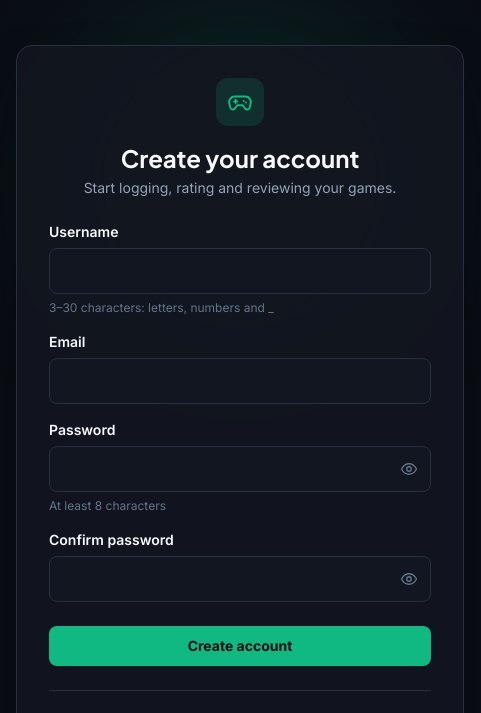
Test case: RegisterView › shows a taken username under the username field
Type "new_player" into the field labelled "Username" at (240, 271), box top-left (49, 248), bottom-right (431, 294)
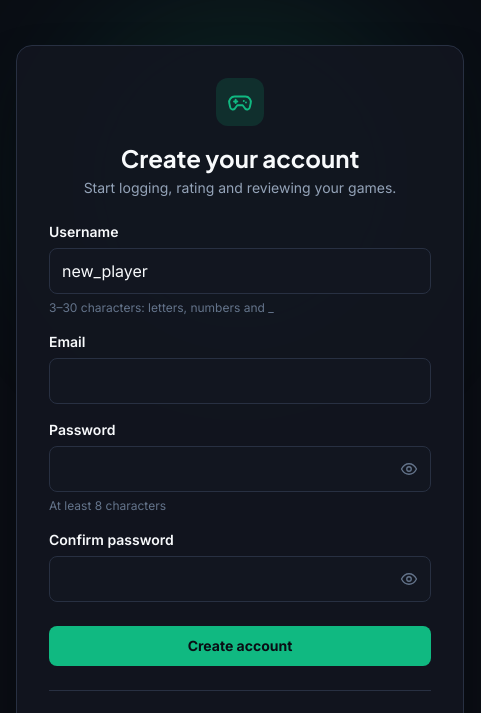
Type "player@mail.com" into the field labelled "Email" at (240, 381), box top-left (49, 358), bottom-right (431, 404)
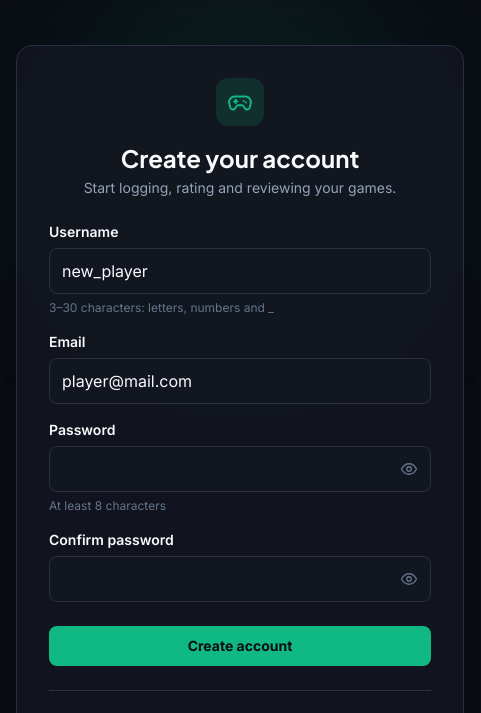
Type "secret123" into the password field labelled "Password" at (240, 469), box top-left (49, 446), bottom-right (431, 492)
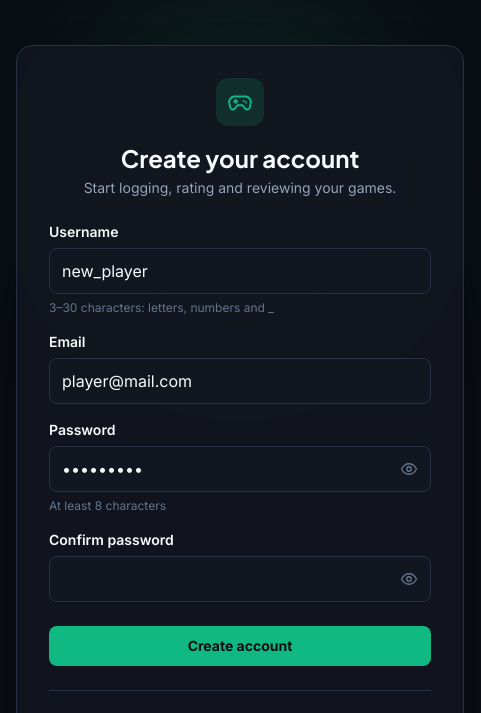
Type "secret123" into the password field labelled "Confirm password" at (240, 579), box top-left (49, 556), bottom-right (431, 602)
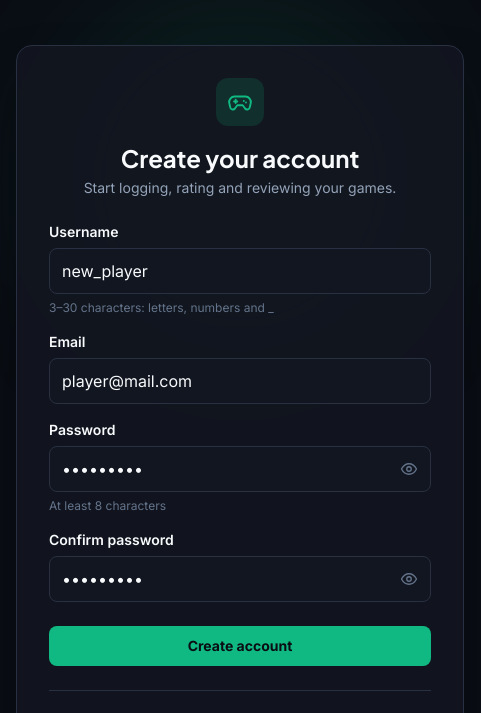
Submit the form, box top-left (49, 222), bottom-right (431, 666)
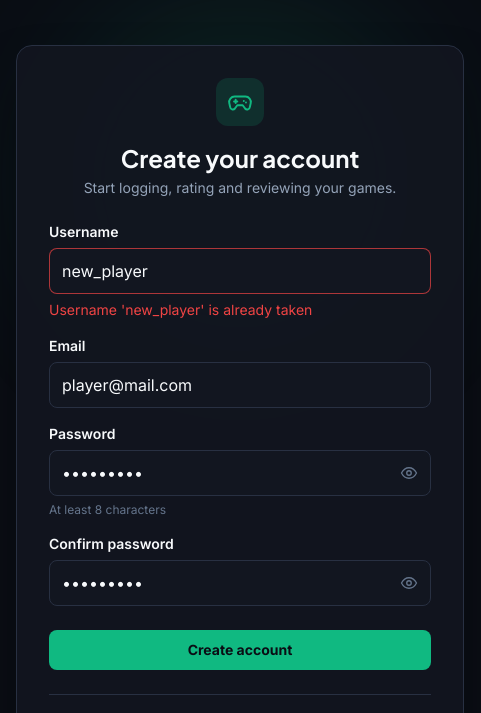
Now the message "Username 'new_player' is already taken" is shown, box top-left (49, 301), bottom-right (312, 318)
